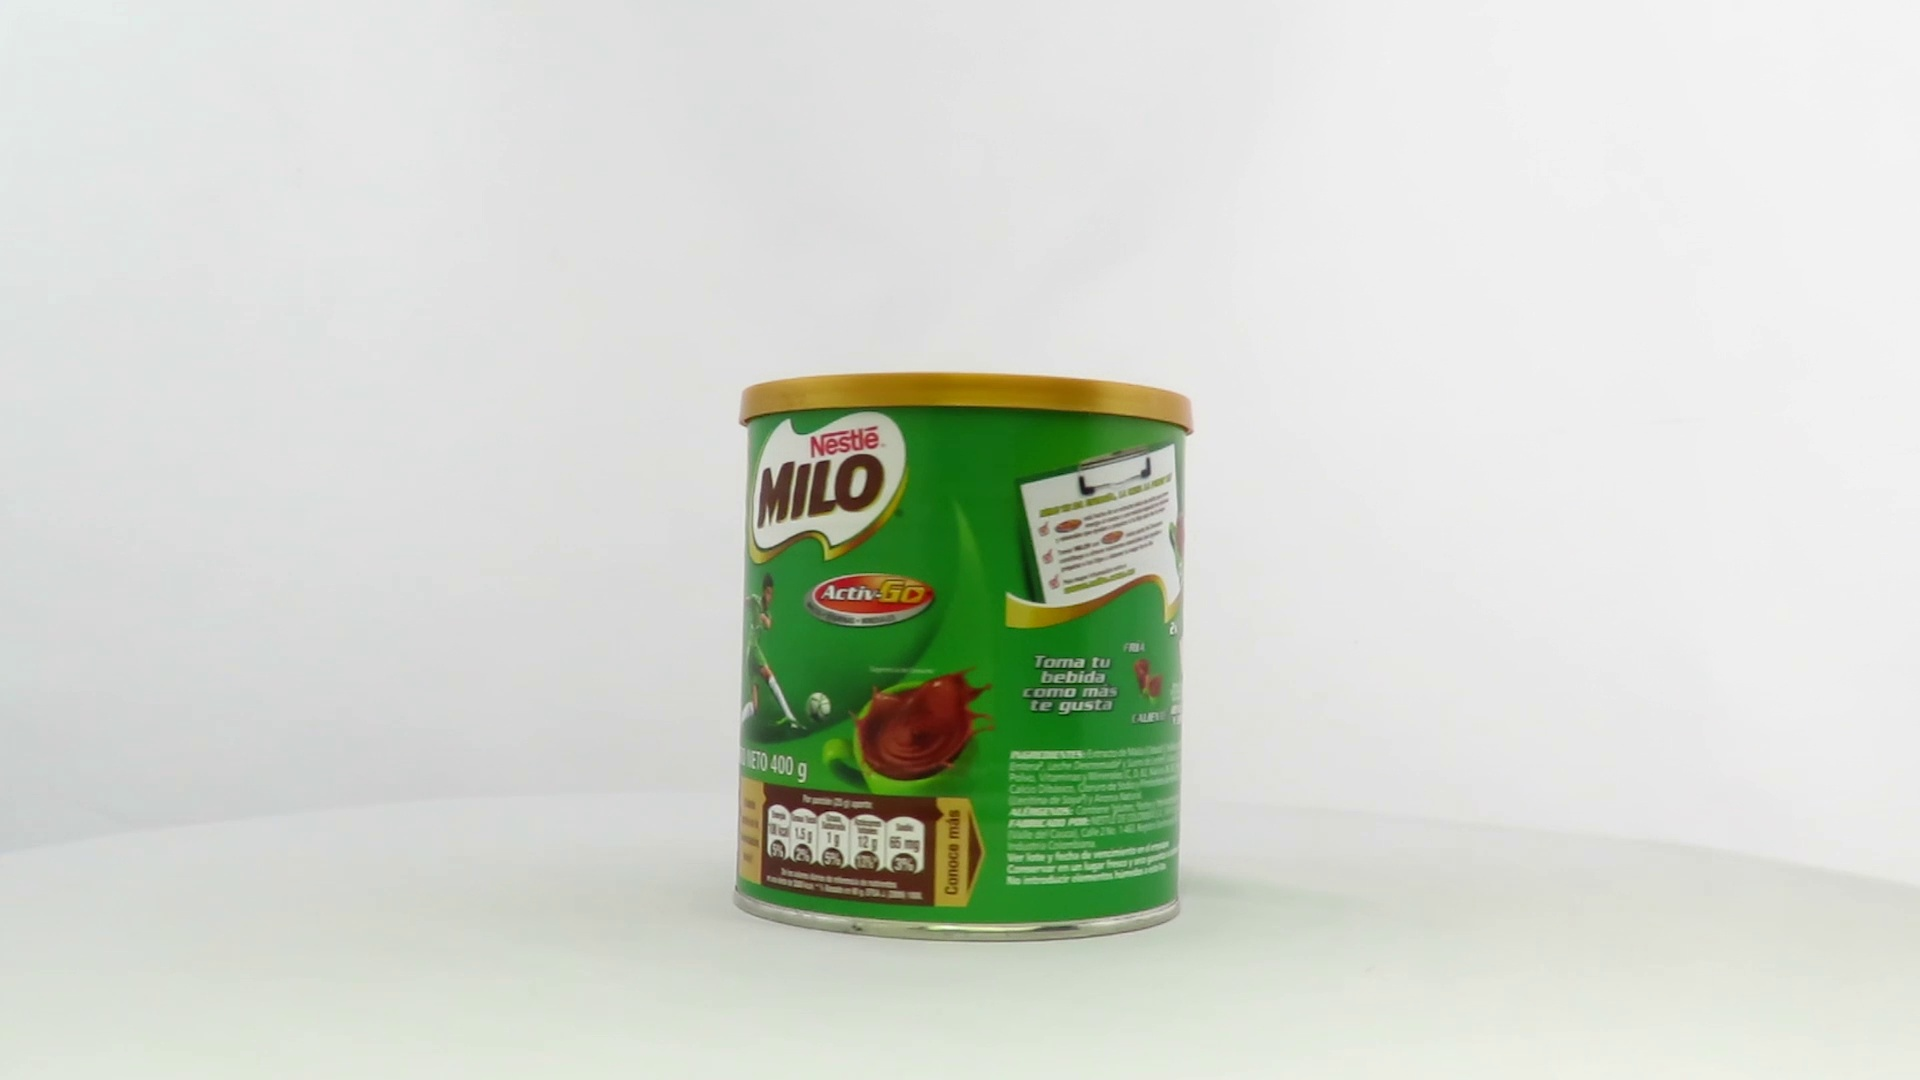COL0170203LAT40000: (727, 367, 1200, 949)
